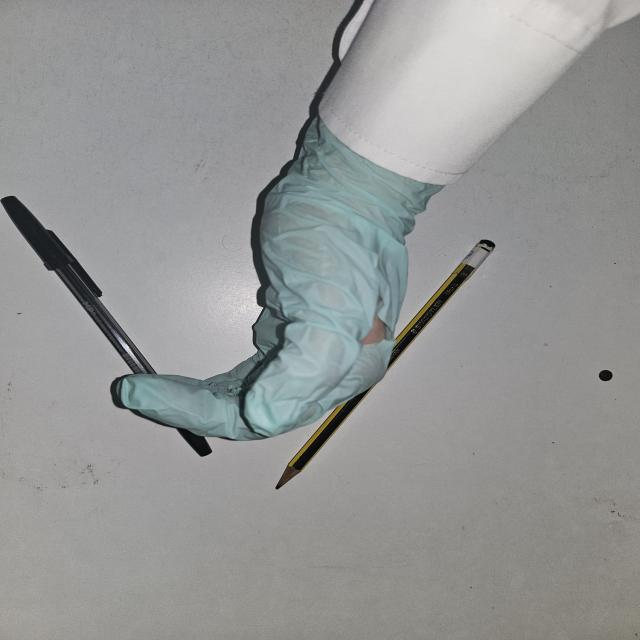gloves_damaged: (108, 128, 437, 442)
